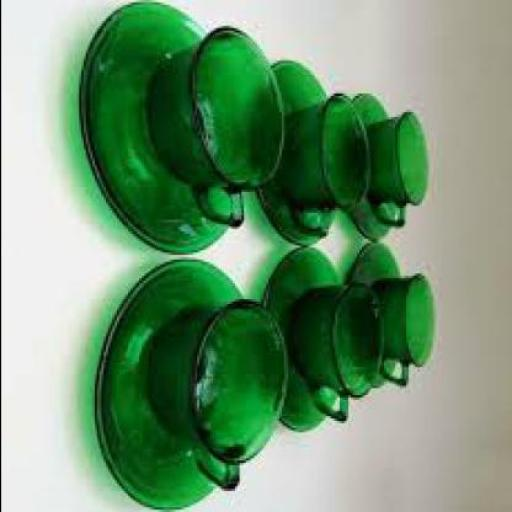glass: (96, 257, 250, 510), (81, 0, 234, 251), (151, 296, 292, 488), (154, 23, 284, 227), (273, 91, 374, 236), (265, 243, 341, 433), (258, 59, 336, 243), (289, 281, 388, 421), (343, 241, 398, 388), (368, 271, 436, 386), (366, 110, 430, 225), (352, 91, 391, 236)
